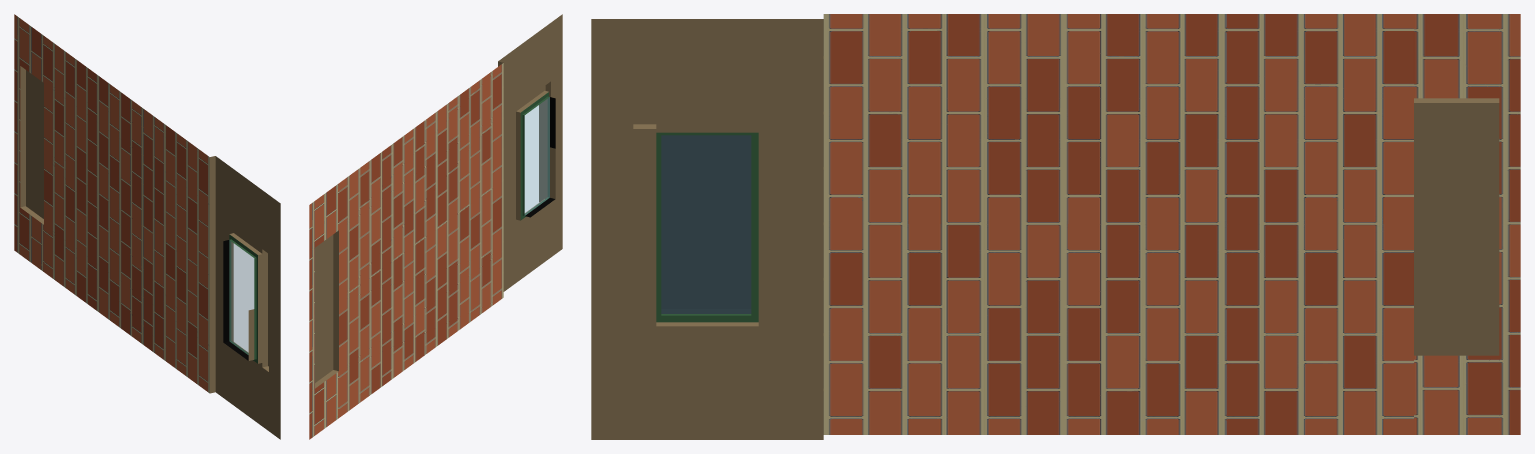
Rendered from wall02.fbx.
3 renders of one model, left to right at view 1: azimuth 30°, elevation 25°; view 2: azimuth 150°, elevation 25°; view 3: azimuth 270°, elevation 25°, orthographic. The views are drawn at different scales.
Parts seen in each view (by area): view 1: Cube; view 2: Cube; view 3: Cube.
Part boxes in pixels (<box>): Cube: <box>14,14,280,439</box>; Cube: <box>309,14,562,439</box>; Cube: <box>591,14,1520,439</box>.
Size of the model in its own units: 16 by 200 by 400.
